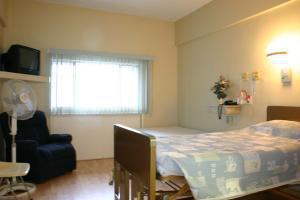Cama: (109, 108, 295, 197)
Ventana: (47, 51, 145, 114)
